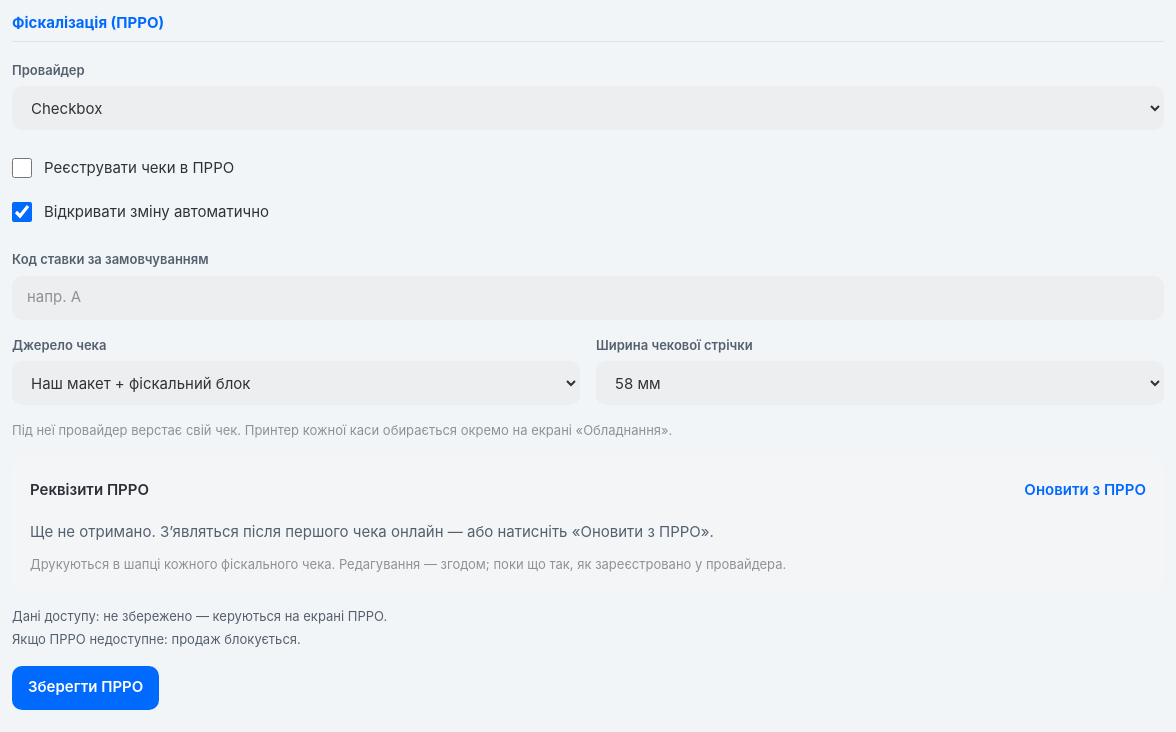
Scenario: FiscalSettingsCard › explains a missing server key instead of "Помилка збереження"
Expected: the checkbox labelled "Реєструвати чеки в ПРРО" is enabled, top-left (12, 158), bottom-right (32, 178)
Click the button "Зберегти ПРРО" at (86, 688), box top-left (12, 666), bottom-right (159, 710)
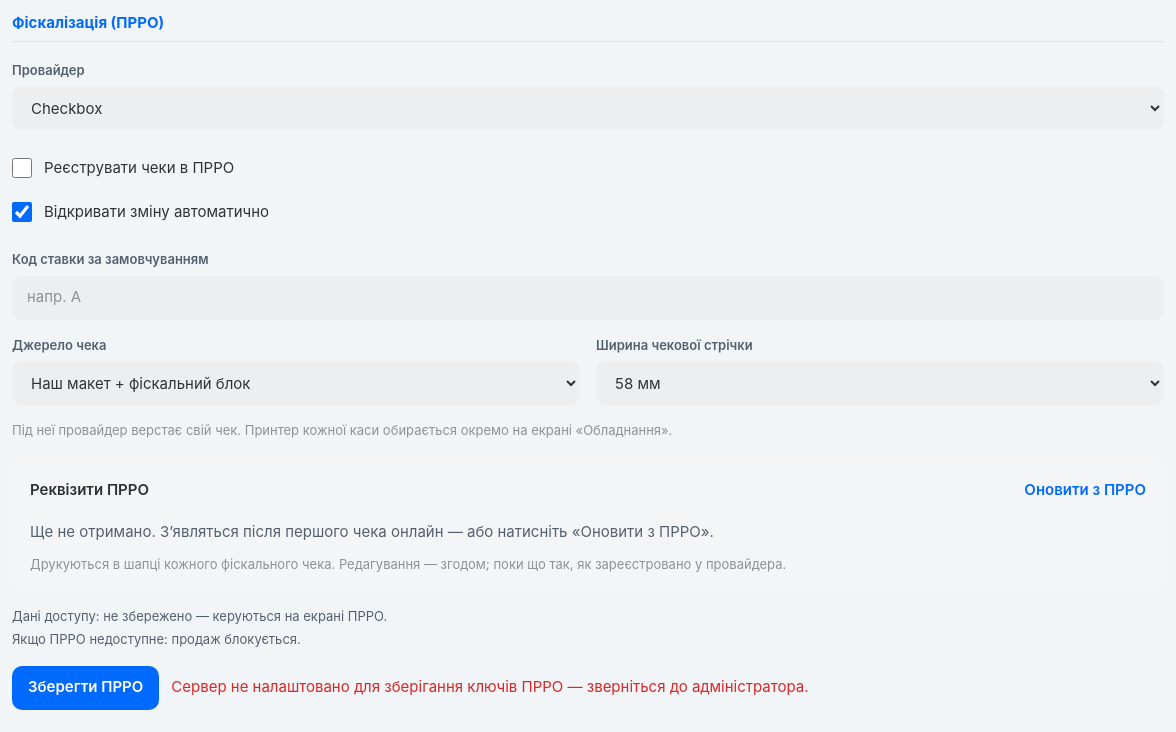
Now the text "зверніться до адміністратора" is shown, box top-left (171, 677), bottom-right (808, 696)
